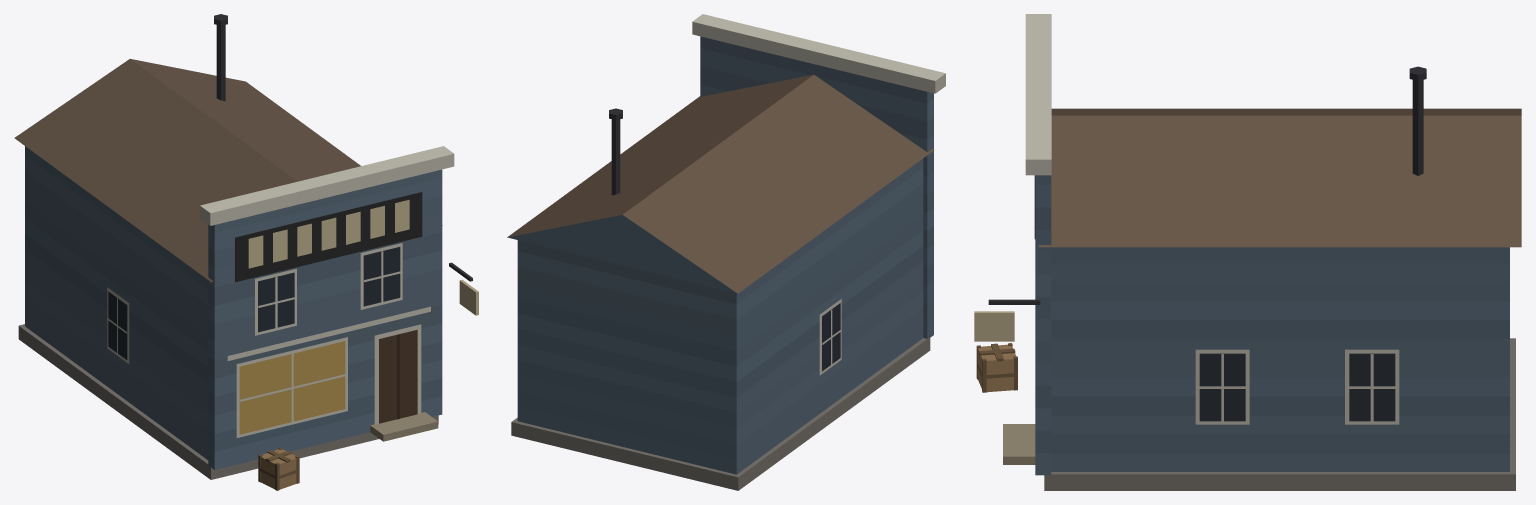
File: print_shop.glb
3 views of the same model, side by side, from view 1: azimuth 30°, elevation 25°; view 2: azimuth 150°, elevation 25°; view 3: azimuth 270°, elevation 25° (orthographic). The views are drawn at different scales.
Parts seen in each view (by area): view 1: print_shop; view 2: print_shop; view 3: print_shop.
Boxes of the visible parts, <box> form: print_shop: <box>14,14,478,490</box>; print_shop: <box>507,14,945,490</box>; print_shop: <box>974,14,1521,490</box>.
Bounding box in the file's own units: 6.09 × 7.32 × 9.52.
